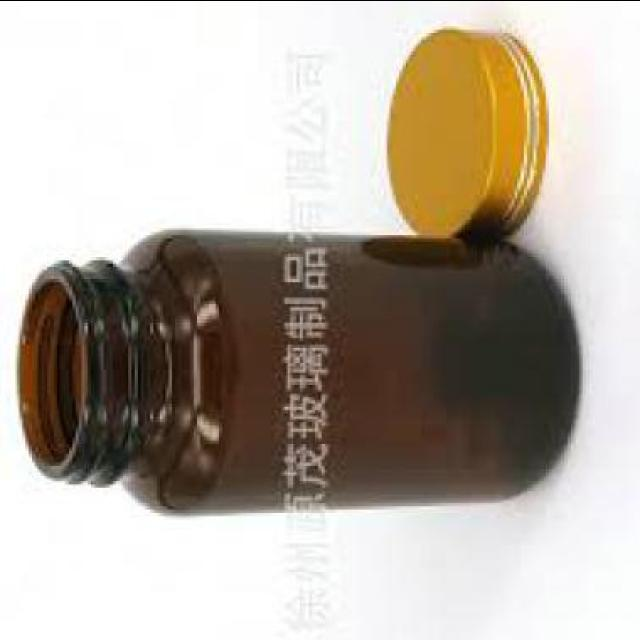kaca: (17, 234, 579, 517)
